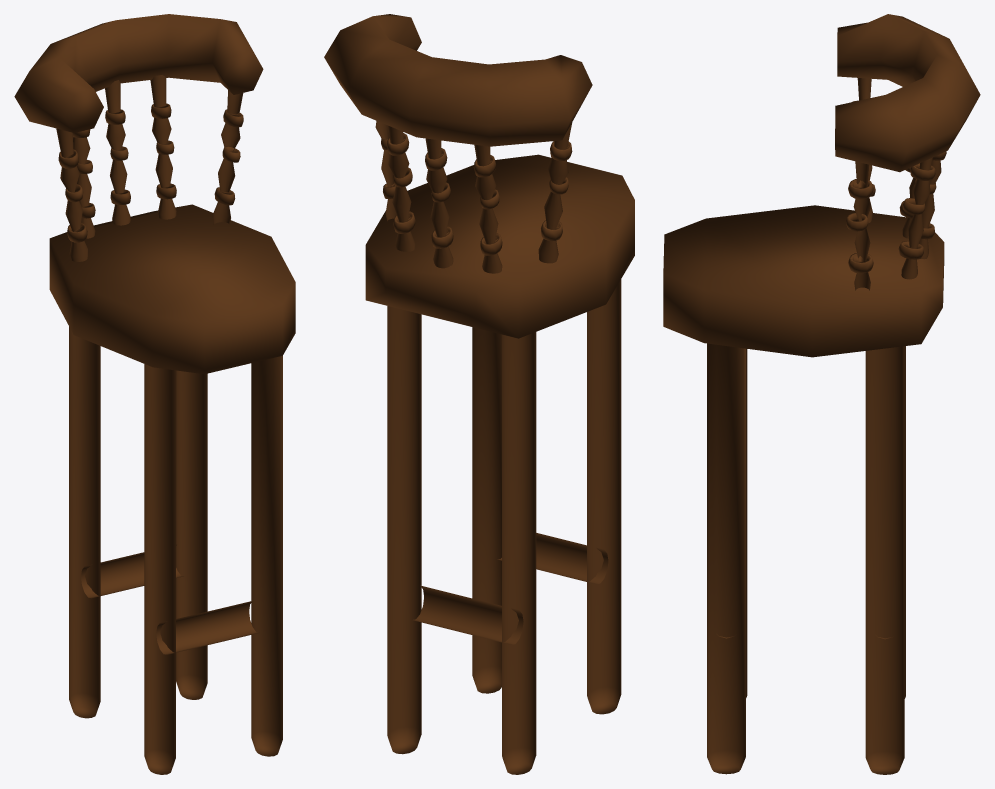
File: WoodenStool.glb
The picture shows the model from 3 angles, left to right: view 1: azimuth 30°, elevation 25°; view 2: azimuth 150°, elevation 25°; view 3: azimuth 270°, elevation 25°; orthographic projection. The views are drawn at different scales.
Visible parts, largest first — view 1: Cube.001; view 2: Cube.001; view 3: Cube.001.
Part boxes in pixels (bbox=[...]): Cube.001: bbox=[14, 14, 295, 774]; Cube.001: bbox=[324, 14, 634, 774]; Cube.001: bbox=[663, 14, 980, 774].
Size of the model in its own units: 3.23 by 9 by 3.75.
